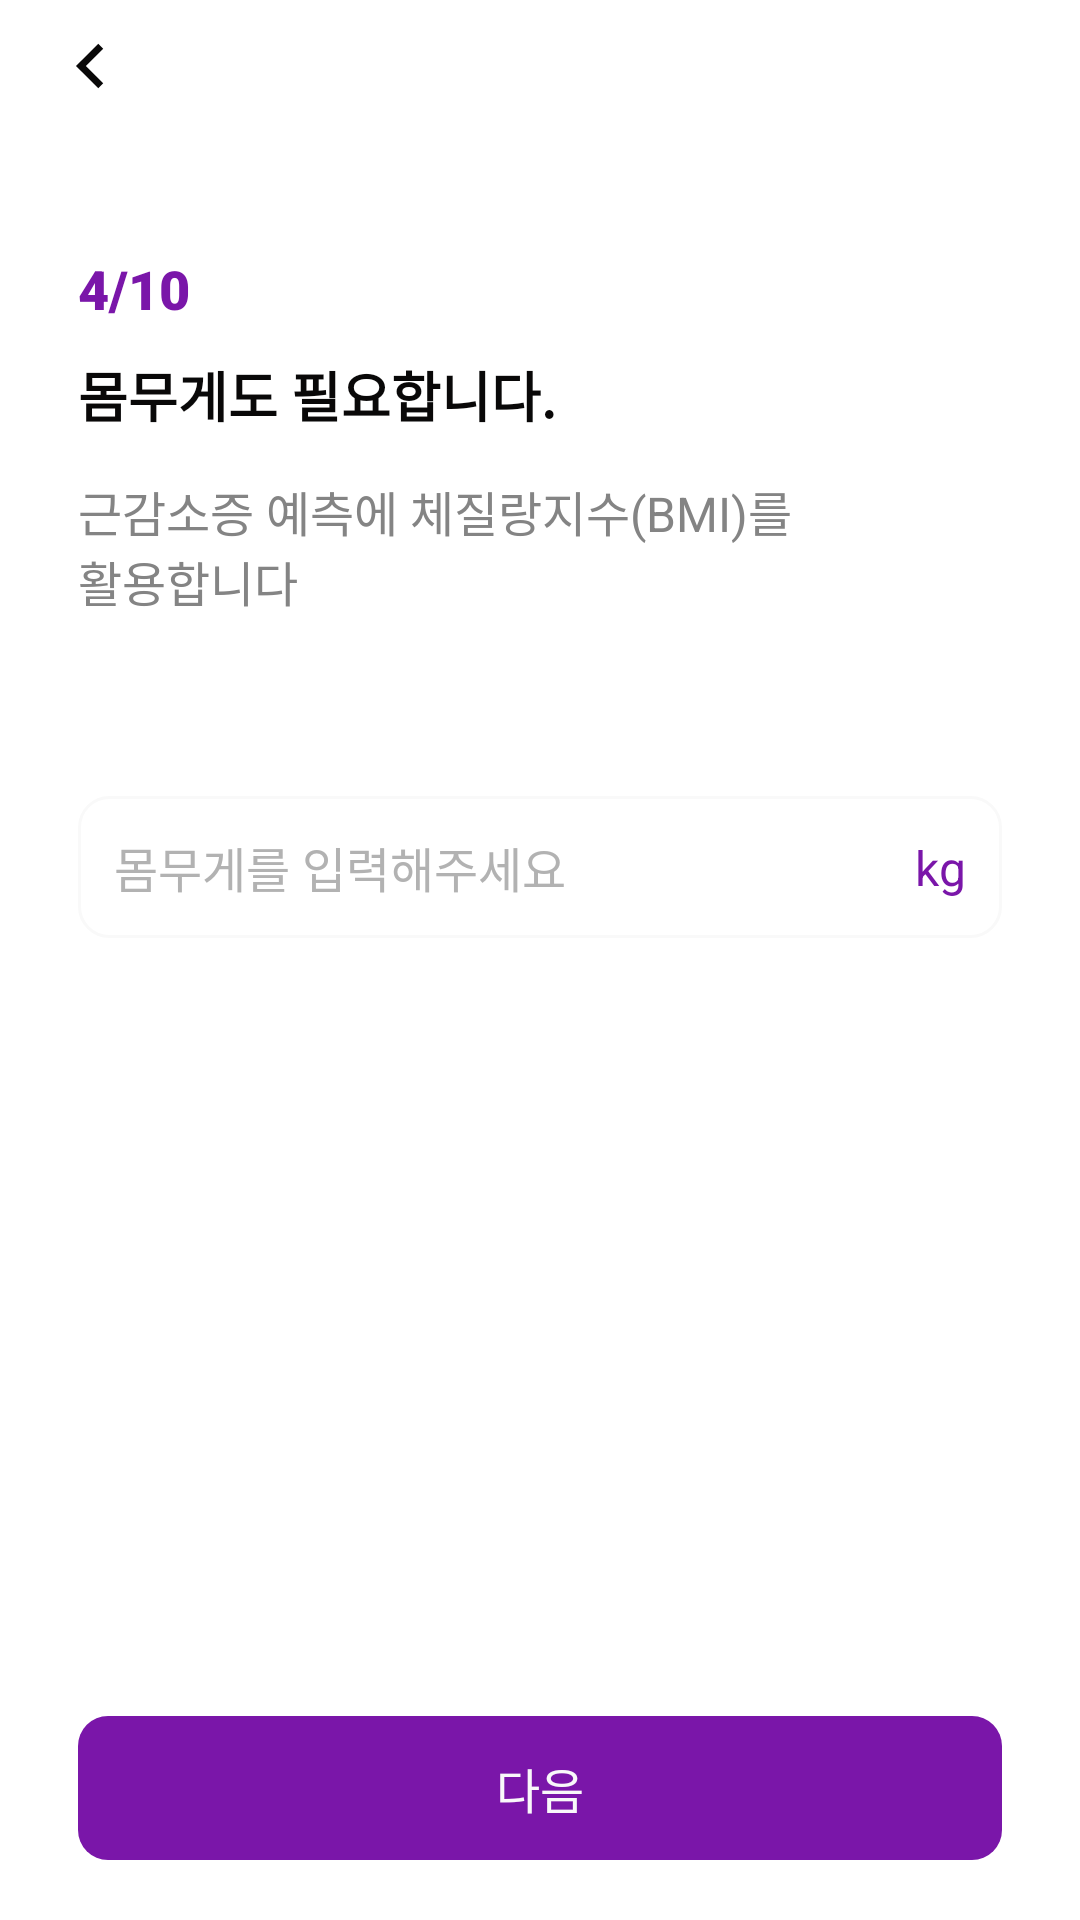

Icon click points for this 1080px×1920px phone screenshot, format point (x, y):
arrow: point (89, 66)
